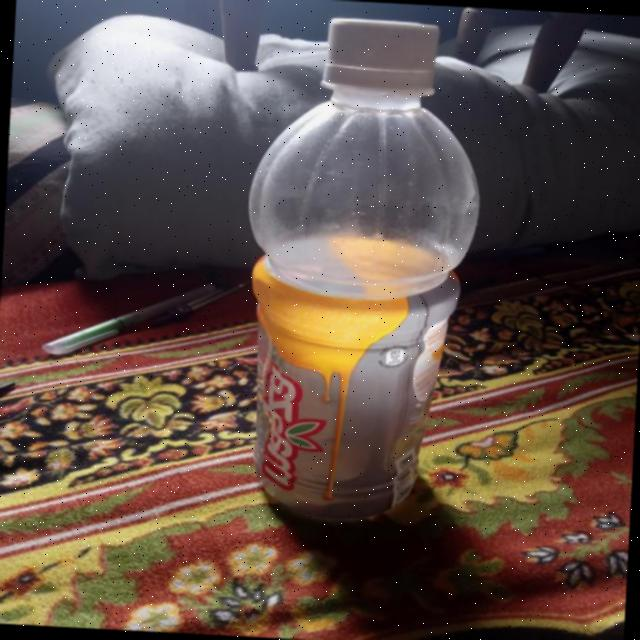bottle: (225, 7, 480, 540)
cap: (322, 18, 442, 72)
label: (232, 277, 464, 527)
